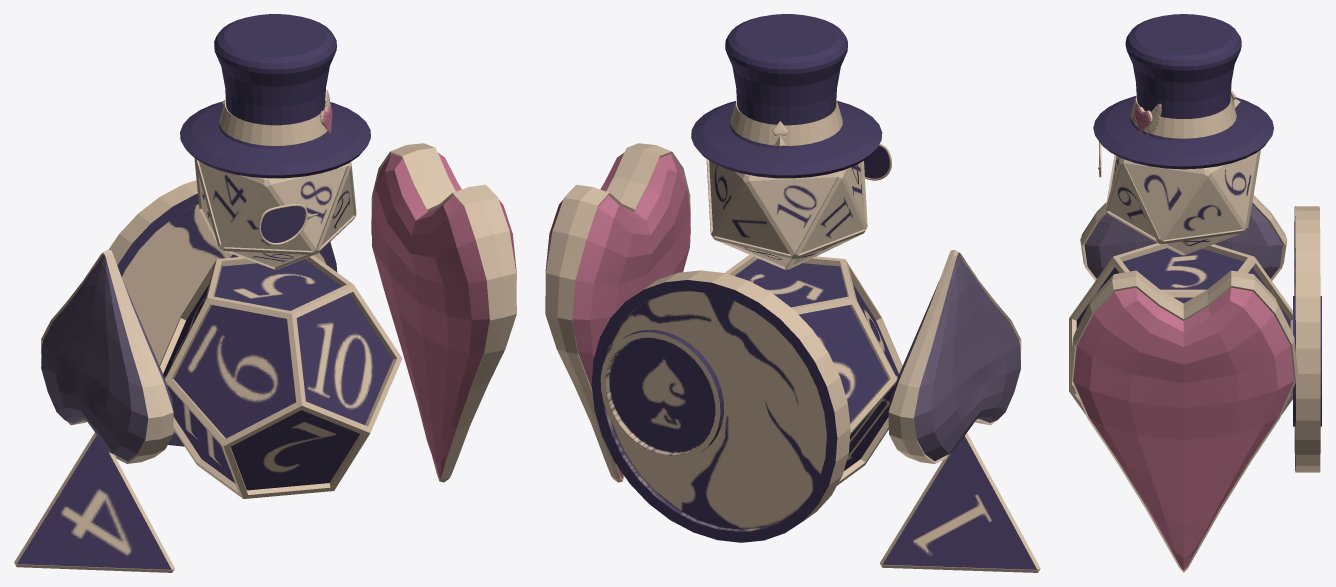
The model's file is player.obj.
The picture shows the model from 3 angles, left to right: view 1: azimuth 30°, elevation 25°; view 2: azimuth 150°, elevation 25°; view 3: azimuth 270°, elevation 25°; orthographic projection. The views are drawn at different scales.
Parts seen in each view (by area): view 1: ICO球.002, 立方体.004, 立方体, 立方体.010; view 2: ICO球.002, 立方体.004, 立方体.010, 立方体; view 3: 立方体, 立方体.004, ICO球.002, 立方体.010.
Boxes of the visible parts, x1,y1,x2,y2 form: ICO球.002: (108,180,402,498); 立方体.004: (180,14,370,269); 立方体: (371,143,516,482); 立方体.010: (14,250,174,572); ICO球.002: (591,254,902,542); 立方体.004: (691,14,891,269); 立方体.010: (880,250,1040,572); 立方体: (545,143,690,482); 立方体: (1069,270,1297,572); 立方体.004: (1093,14,1273,255); ICO球.002: (1069,206,1321,472); 立方体.010: (1080,195,1287,280).
Bounding box in the file's own units: 3.75 × 3.81 × 1.89.
1 material, 1 textured.
